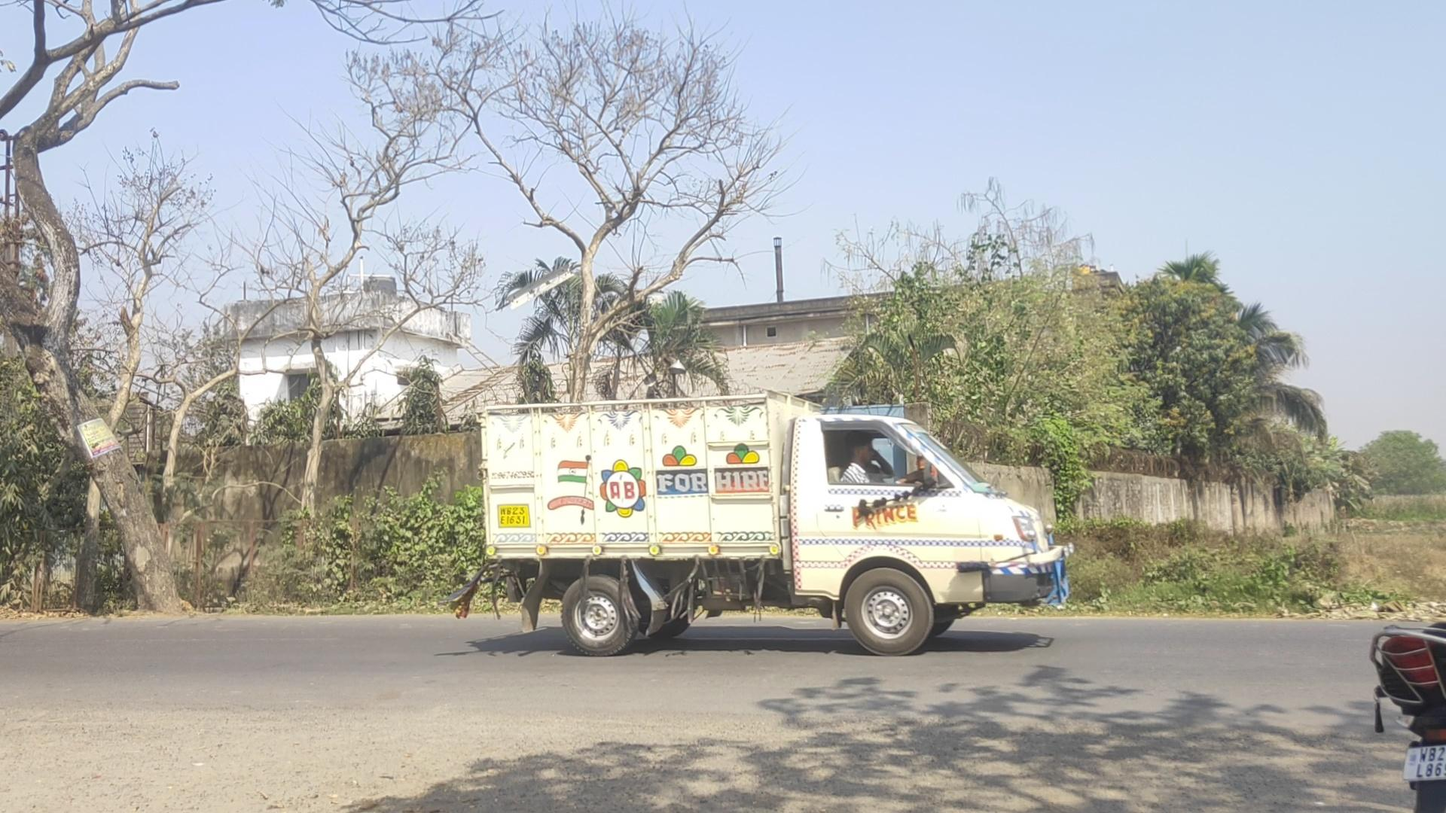van: (474, 388, 1075, 655)
